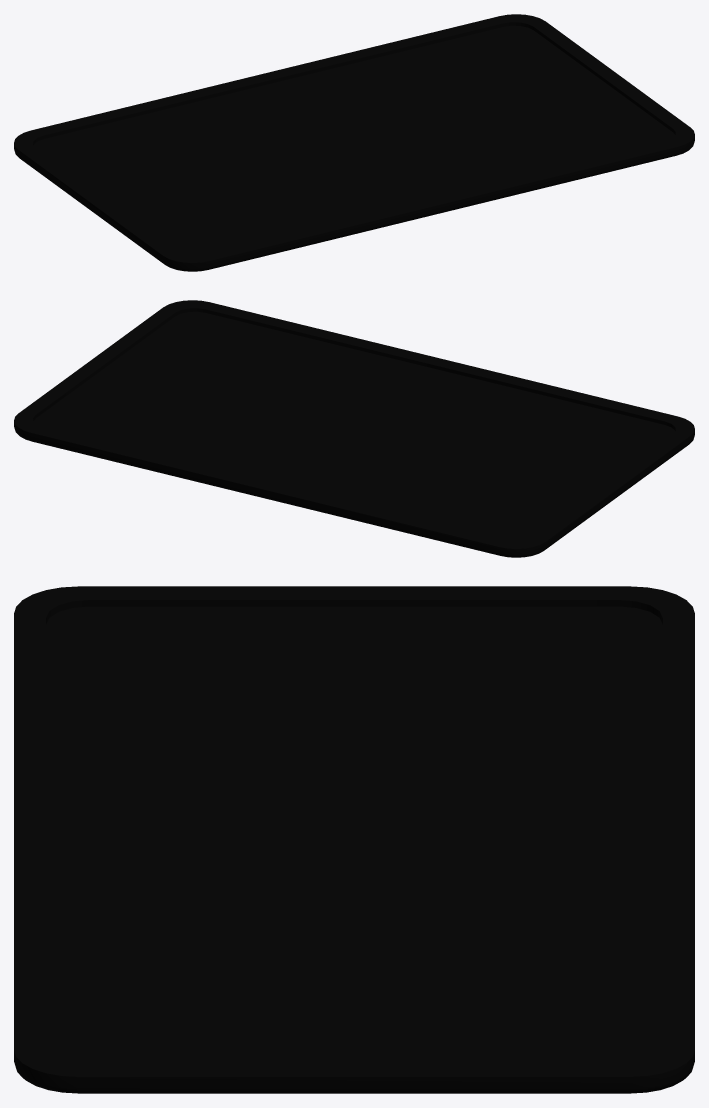
Rendered from pad.fbx.
The picture shows the model from 3 angles, top to bottom: view 1: azimuth 30°, elevation 25°; view 2: azimuth 150°, elevation 25°; view 3: azimuth 270°, elevation 25°; orthographic projection. The views are drawn at different scales.
Parts seen in each view (by area): view 1: Plane; view 2: Plane; view 3: Plane.
Part boxes in pixels (x1,y1,x2,y2): Plane: (14,14,694,271); Plane: (14,300,694,557); Plane: (14,586,694,1093).
Bounding box in the file's own units: 0.3388 × 0.00772 × 0.1988.
Materials: 1 (1 with a texture image).
